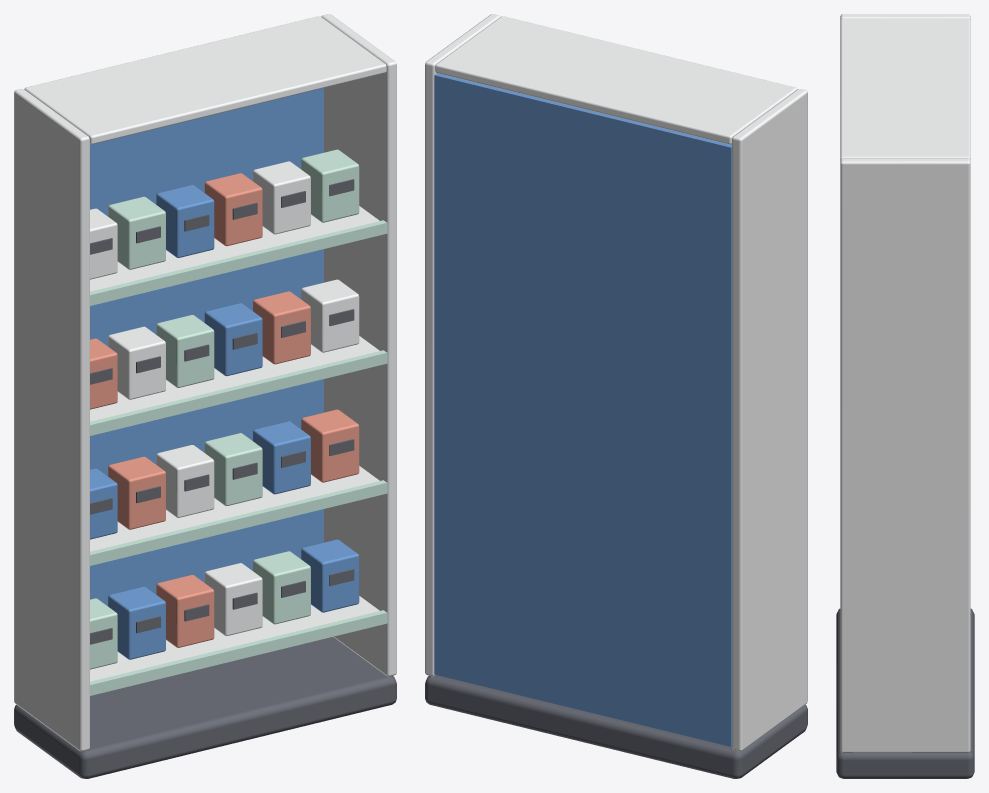
The picture shows the model from 3 angles, left to right: view 1: azimuth 30°, elevation 25°; view 2: azimuth 150°, elevation 25°; view 3: azimuth 270°, elevation 25°; orthographic projection. The views are drawn at different scales.
Parts seen in each view (by area): view 1: contact-lens-shelf-unit; view 2: contact-lens-shelf-unit; view 3: contact-lens-shelf-unit.
Part boxes in pixels (left/top/right/bottom): contact-lens-shelf-unit: left=14, top=14, right=396, bottom=778; contact-lens-shelf-unit: left=425, top=14, right=807, bottom=778; contact-lens-shelf-unit: left=836, top=14, right=974, bottom=778.
Size of the model in its own units: 0.9201 by 1.78 by 0.36.
